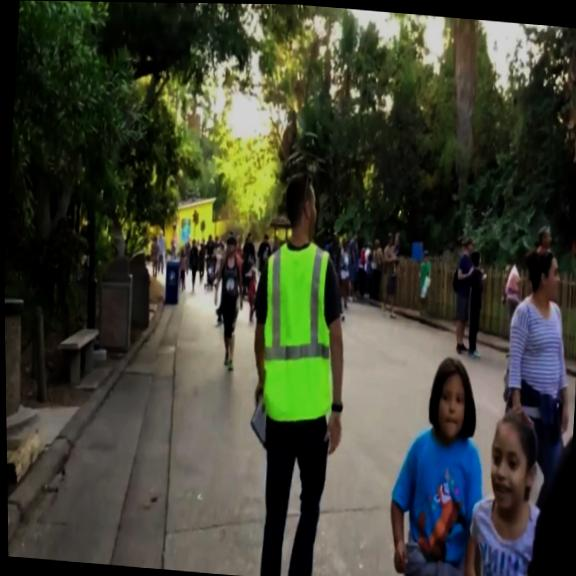safety_vest: (255, 237, 344, 429)
